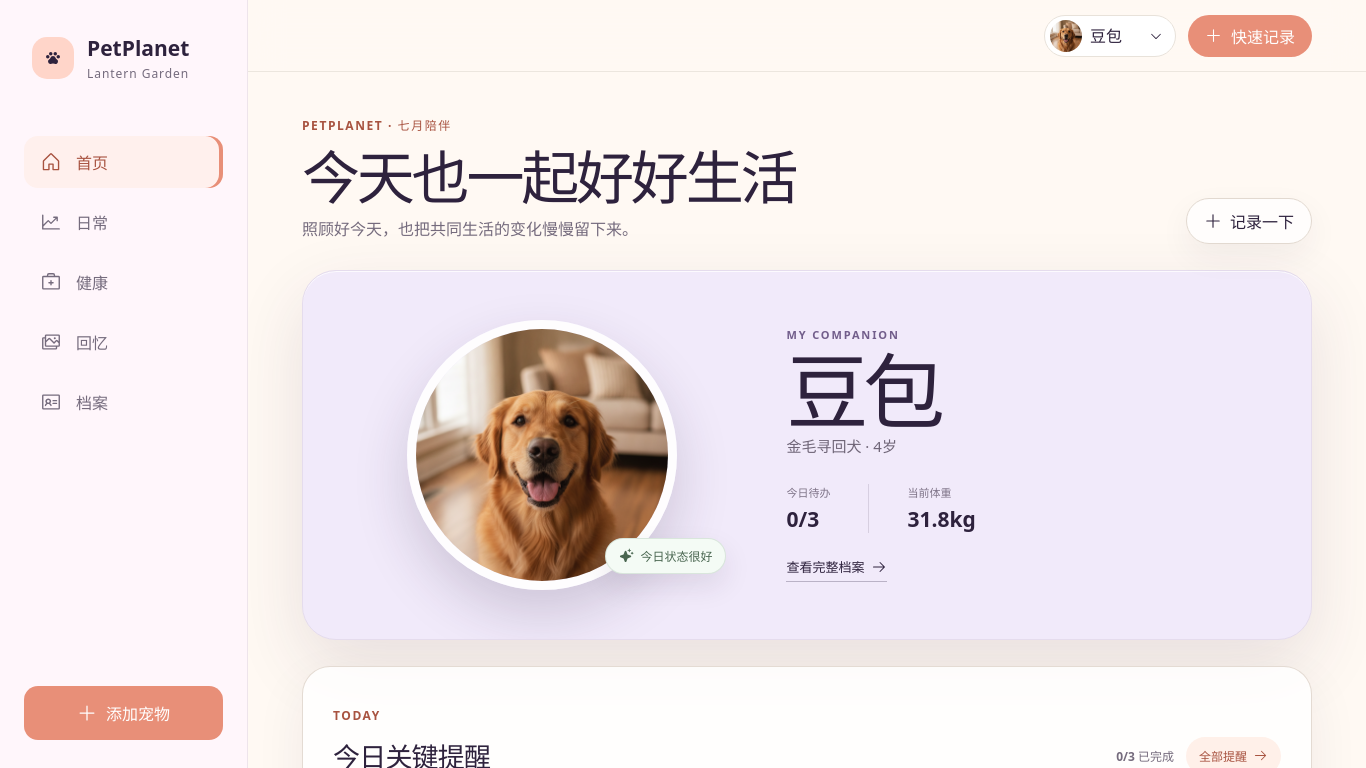
it: PetPlanet app › filters, opens and deletes a medical record
The width and height of the screenshot is (1366, 768).
Click the link "健康".
click(74, 282)  # box top-left (40, 271), bottom-right (108, 294)
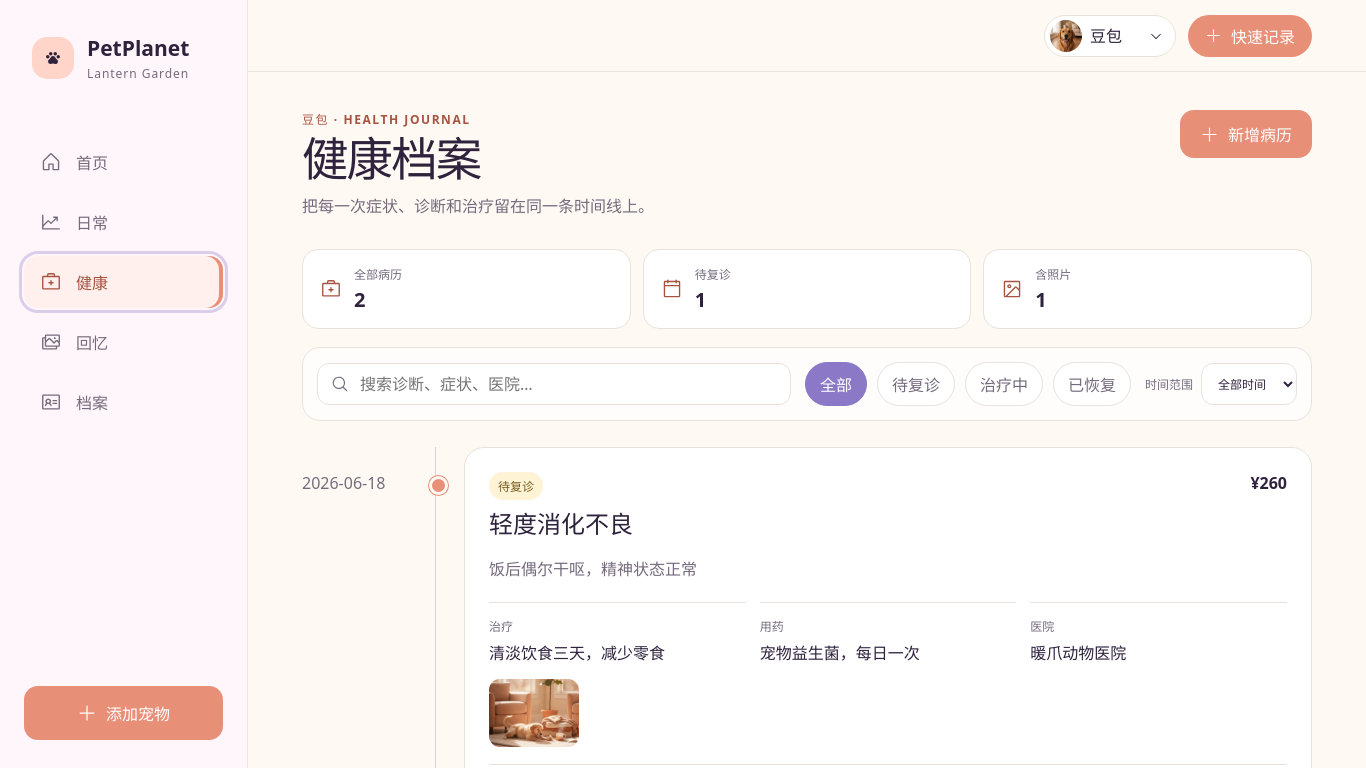
Type "消化" into the search field named "搜索病历".
click(567, 384); type("消化")  # box top-left (358, 372), bottom-right (777, 396)
(page scrolled)
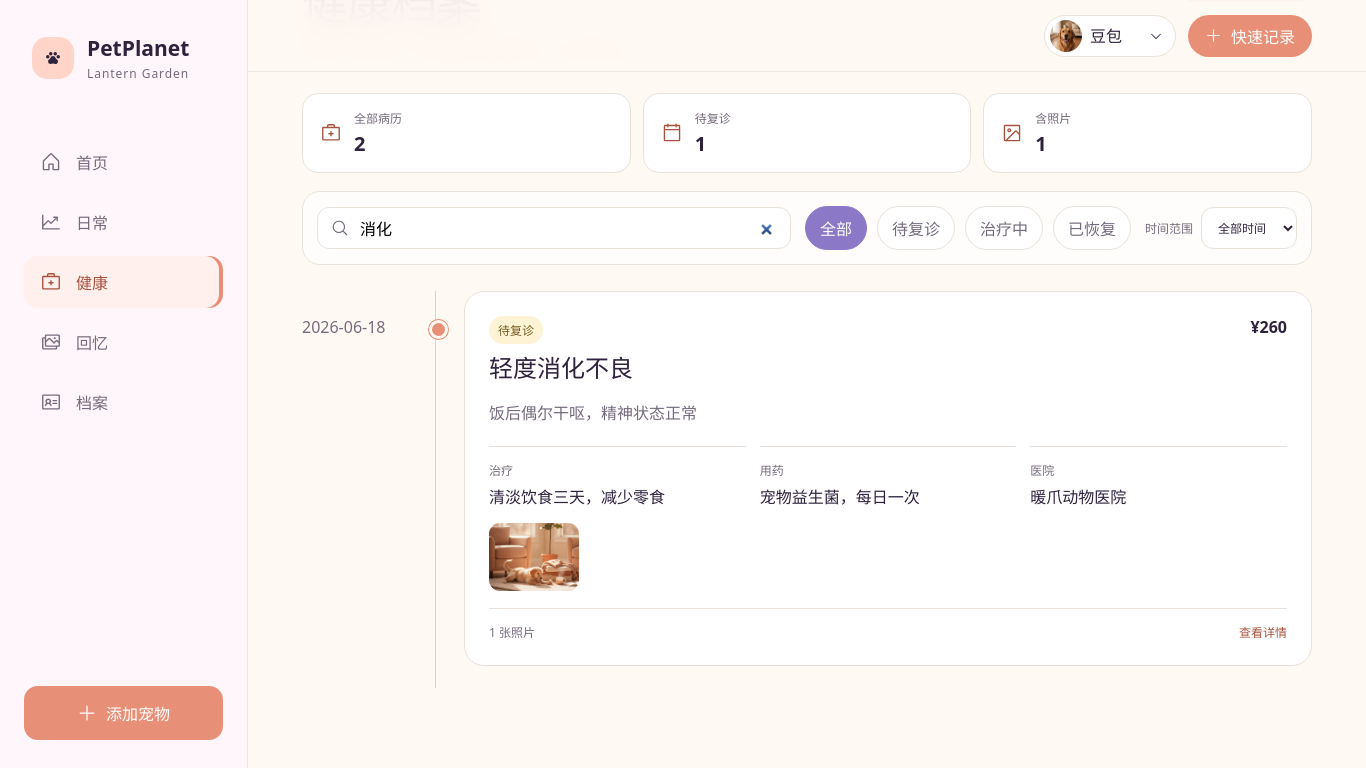
Expected: the heading "轻度消化不良" is shown, top-left (489, 349), bottom-right (633, 384)
Click the button with aria-label "查看轻度消化不良详情".
click(888, 644)  # box top-left (464, 291), bottom-right (1312, 666)
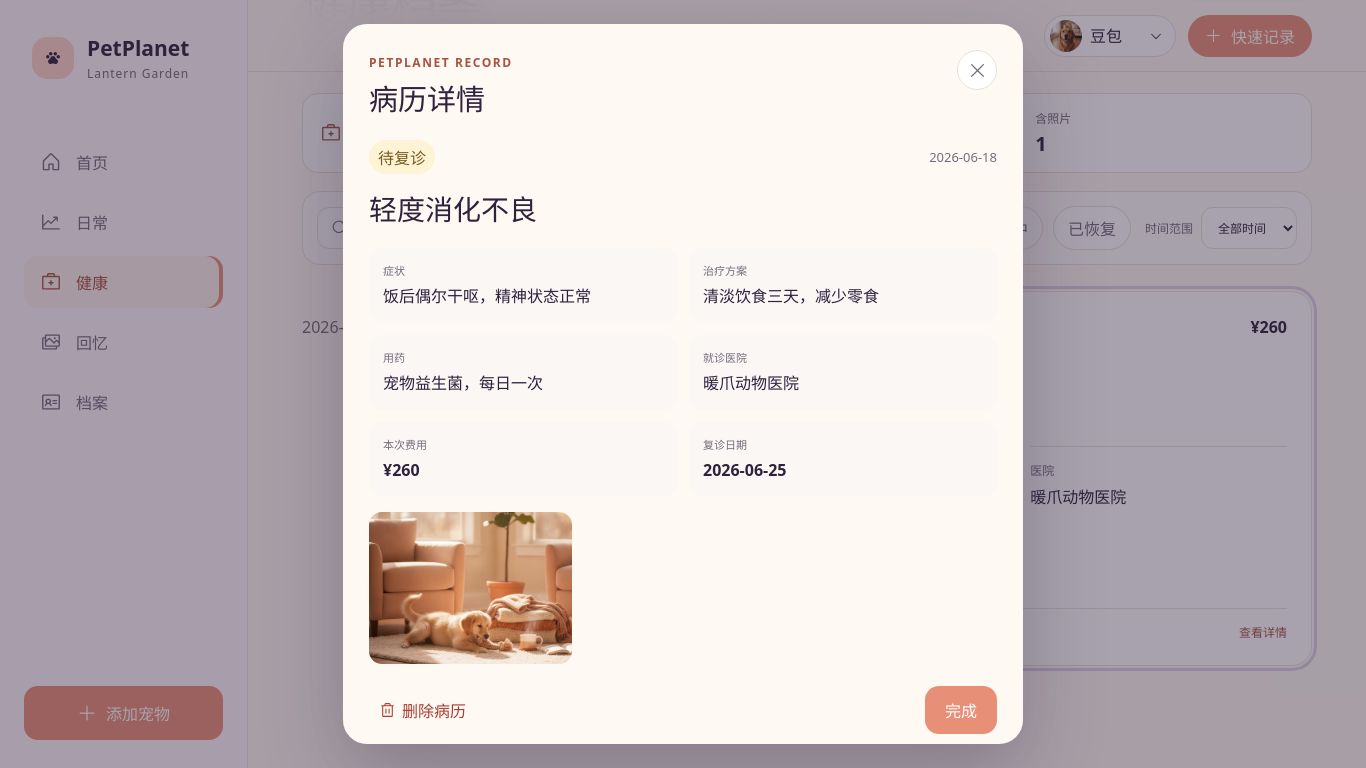
Expected: the text "宠物益生菌，每日一次" is shown, top-left (383, 372), bottom-right (543, 394)
Click the button "删除病历".
click(422, 710)  # box top-left (369, 689), bottom-right (476, 731)
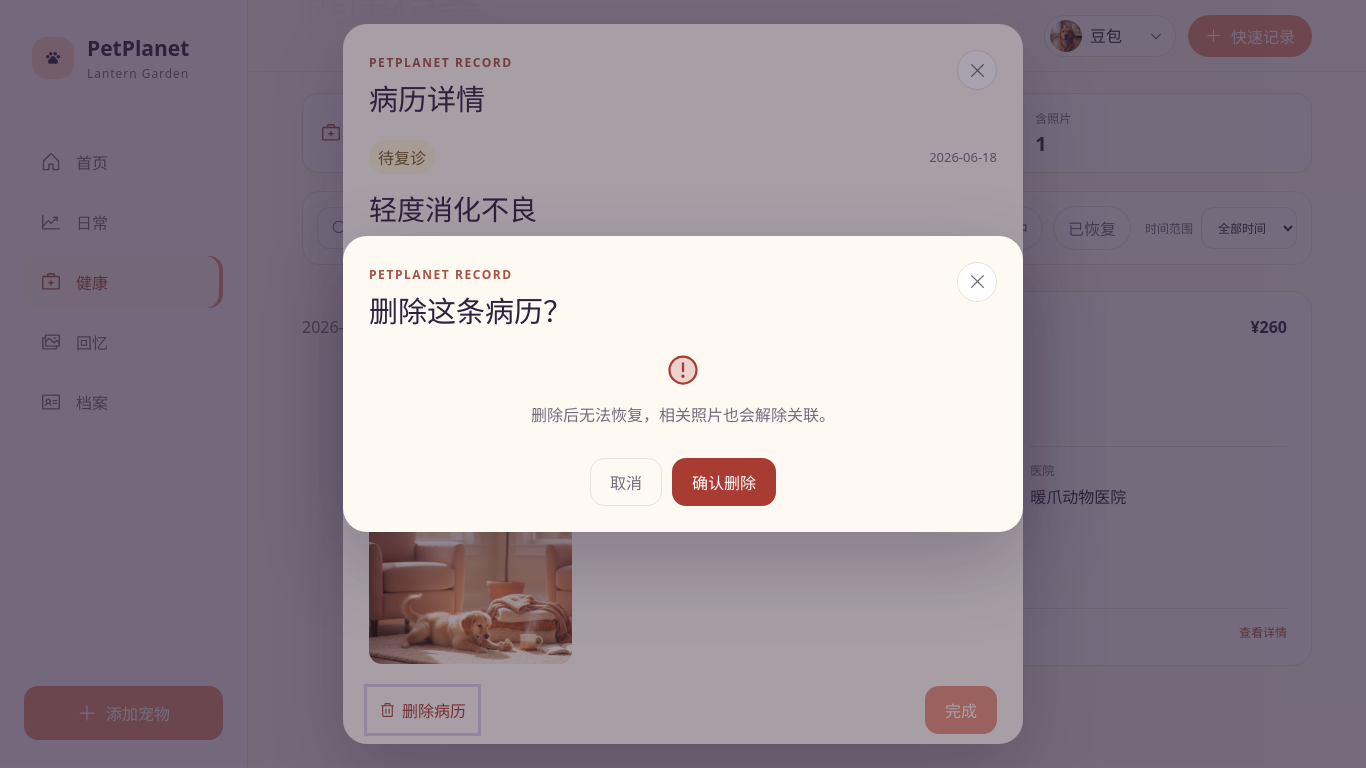
Click the button "确认删除".
click(724, 482)  # box top-left (672, 458), bottom-right (776, 506)
(page scrolled)
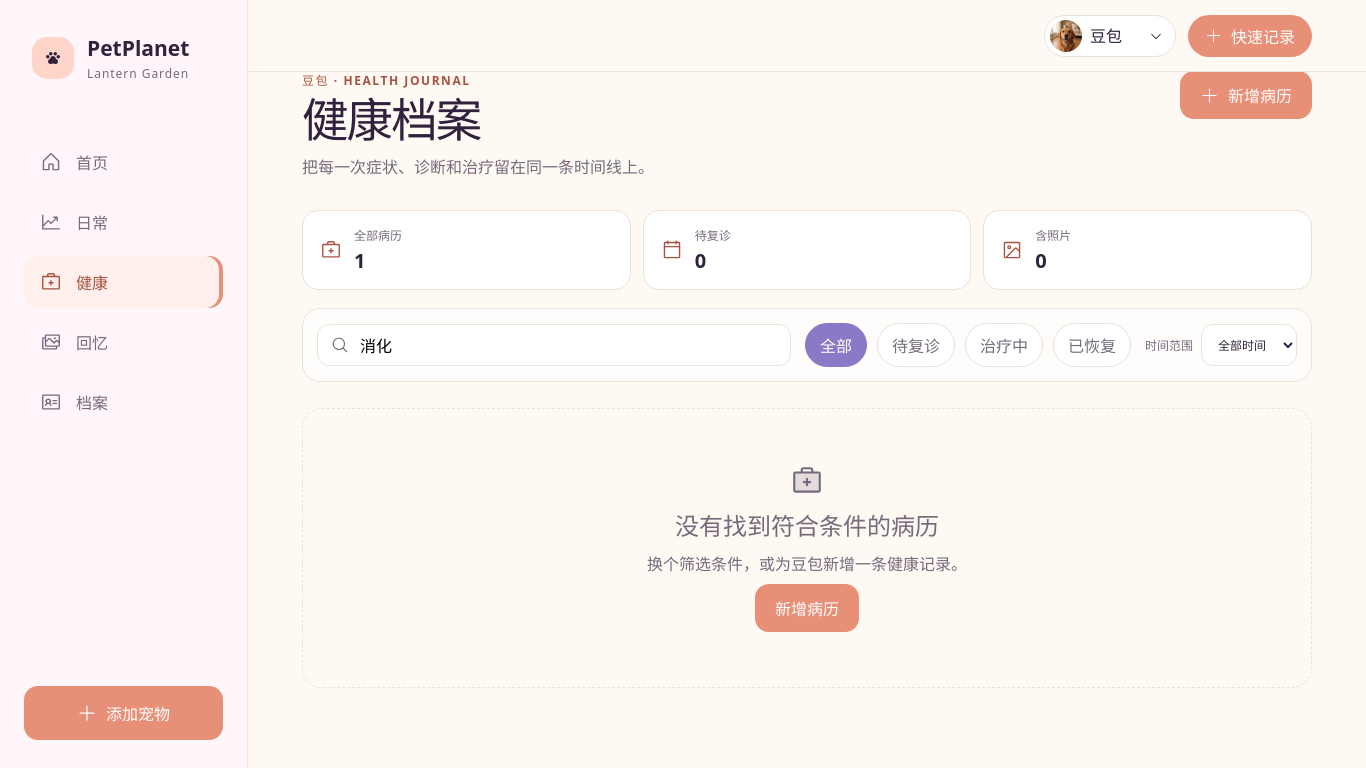
Expected: the heading "没有找到符合条件的病历" is shown, top-left (675, 507), bottom-right (939, 542)
